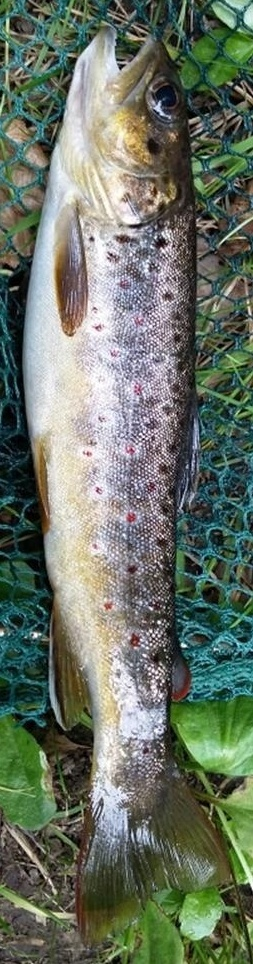Salmo trutta subsp. fario: (20, 20, 233, 944)
